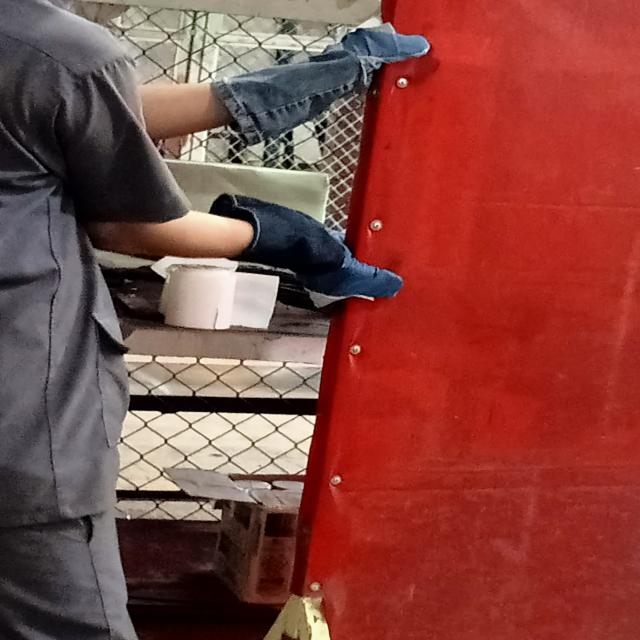Gloves-Detection: (218, 25, 436, 139), (213, 194, 405, 298)
